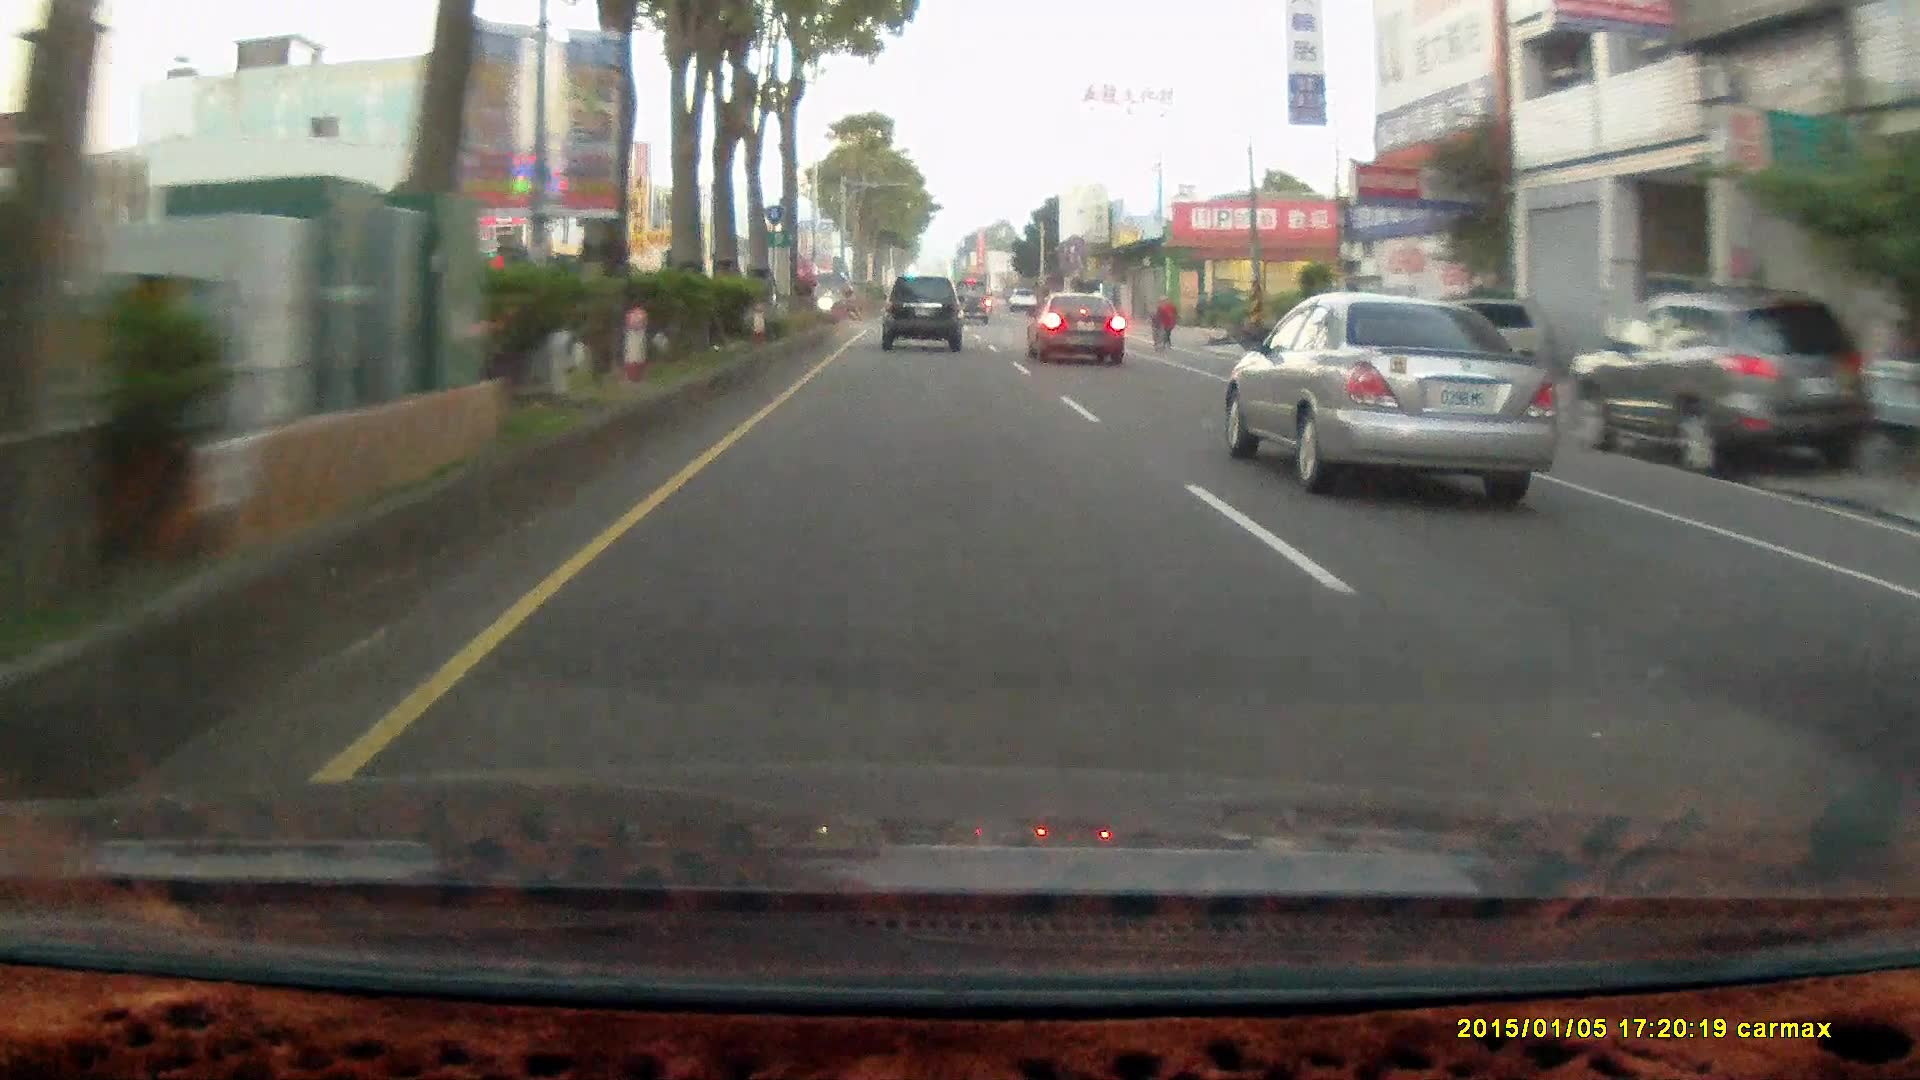pedestrian: (1158, 294, 1179, 348), (1158, 299, 1179, 351)
vehicle: (1228, 295, 1557, 489), (1567, 292, 1876, 479), (1566, 291, 1869, 478), (1368, 295, 1553, 387), (1024, 297, 1129, 373), (1026, 290, 1124, 366), (880, 279, 968, 354), (880, 277, 961, 352), (953, 283, 992, 329)
